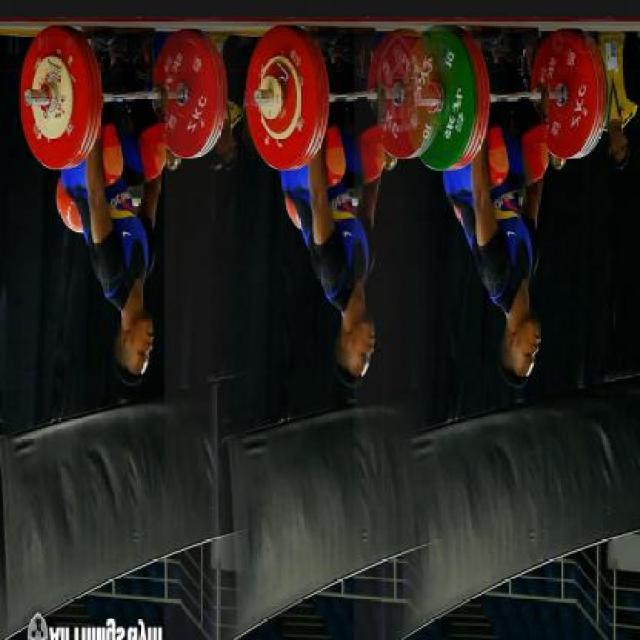Barbell: (20, 86, 38, 112), (251, 85, 264, 110)
